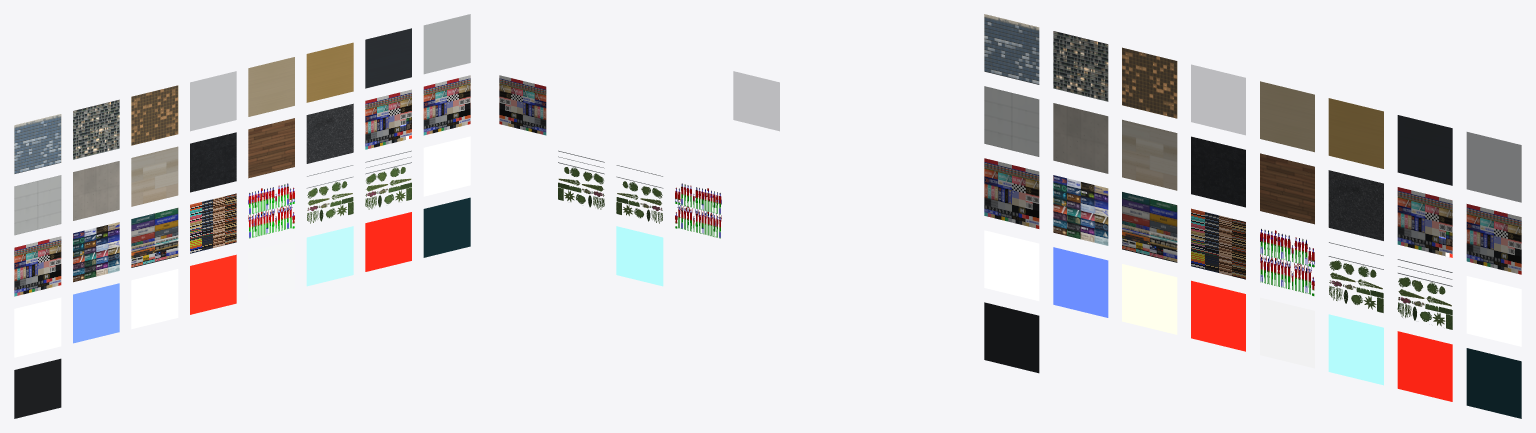
File: meridian-materials.glb
The picture shows the model from 3 angles, left to right: view 1: azimuth 30°, elevation 25°; view 2: azimuth 150°, elevation 25°; view 3: azimuth 330°, elevation 25°; orthographic projection. The views are drawn at different scales.
Visible parts, largest first — view 1: Meridian brass, Meridian white composite, Meridian water, Meridian hotel glass, Meridian kerb, Meridian crystal, Meridian tower glass, Meridian chrome, Meridian asphalt, Meridian interior glow, Meridian cable, Meridian fabric (+21 smaller); view 2: Meridian fabric, Meridian holo, Meridian clear glass, Meridian crowd cards, Meridian fence, Meridian foliage; view 3: Meridian residential, Meridian graphite, Meridian white composite, Meridian asphalt, Meridian livery atlas, Meridian crystal, Meridian accent light, Meridian start lights, Meridian cable, Meridian hotel glass, Meridian travertine, Meridian tower glass (+21 smaller).
Boxes of the visible parts, box(x1,y1,x2,y2) form: Meridian brass: box(306, 42, 353, 102); Meridian white composite: box(14, 175, 61, 235); Meridian water: box(423, 197, 470, 257); Meridian hotel glass: box(131, 85, 178, 145); Meridian kerb: box(14, 236, 61, 296); Meridian crystal: box(423, 136, 470, 196); Meridian tower glass: box(14, 114, 61, 173); Meridian chrome: box(423, 14, 470, 74); Meridian asphalt: box(306, 103, 353, 163); Meridian interior glow: box(131, 269, 178, 329); Meridian cable: box(14, 358, 61, 418); Meridian fabric: box(423, 75, 470, 135); Meridian fabric: box(499, 75, 546, 135); Meridian holo: box(616, 226, 663, 286); Meridian clear glass: box(733, 71, 779, 130); Meridian crowd cards: box(675, 183, 721, 238); Meridian fence: box(558, 150, 604, 209); Meridian foliage: box(616, 165, 663, 223); Meridian residential: box(1053, 31, 1108, 101); Meridian graphite: box(1397, 115, 1452, 185); Meridian white composite: box(984, 86, 1039, 156); Meridian asphalt: box(1328, 170, 1383, 240); Meridian livery atlas: box(1122, 192, 1177, 262); Meridian crystal: box(1466, 276, 1521, 346); Meridian accent light: box(1053, 247, 1108, 317); Meridian start lights: box(1397, 331, 1452, 401); Meridian cable: box(984, 302, 1039, 373); Meridian hotel glass: box(1122, 47, 1177, 118); Meridian travertine: box(1122, 119, 1177, 190); Meridian tower glass: box(984, 14, 1039, 84).
Bounding box in the file's own units: 9.75 × 6 × 0.
33 materials, 21 textured.
